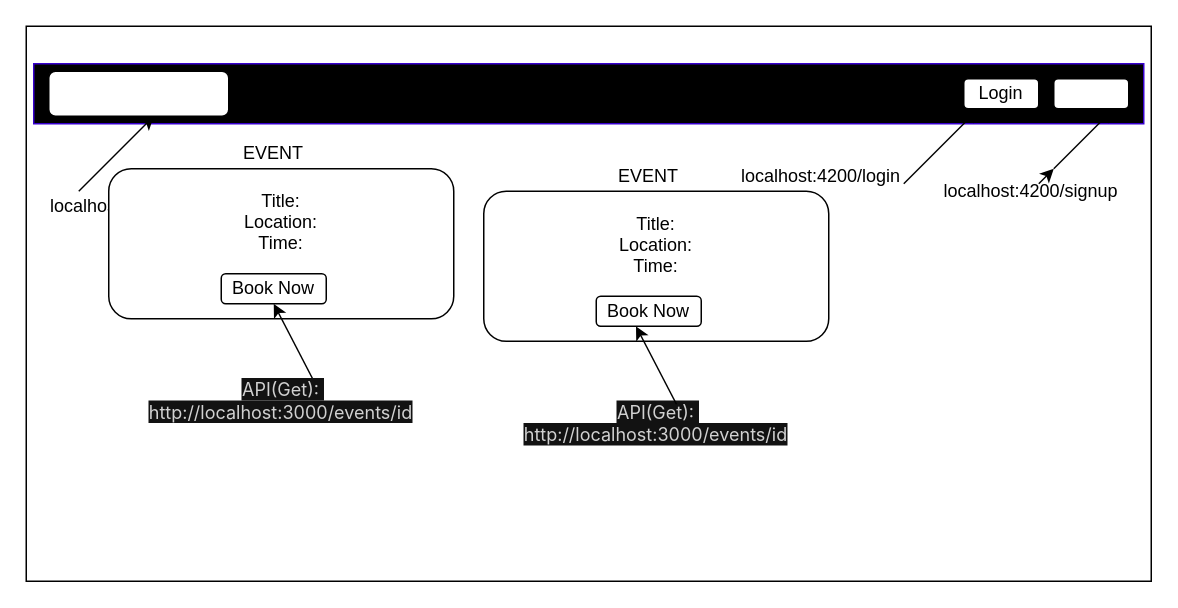
Some shapes in this 1178 by 608 pixel diagram are drawn without their labels. The centre of each missing label's shape, as x and y in pixels:
BookMyEvent: pixel 138 93
SignUp: pixel 1090 93
